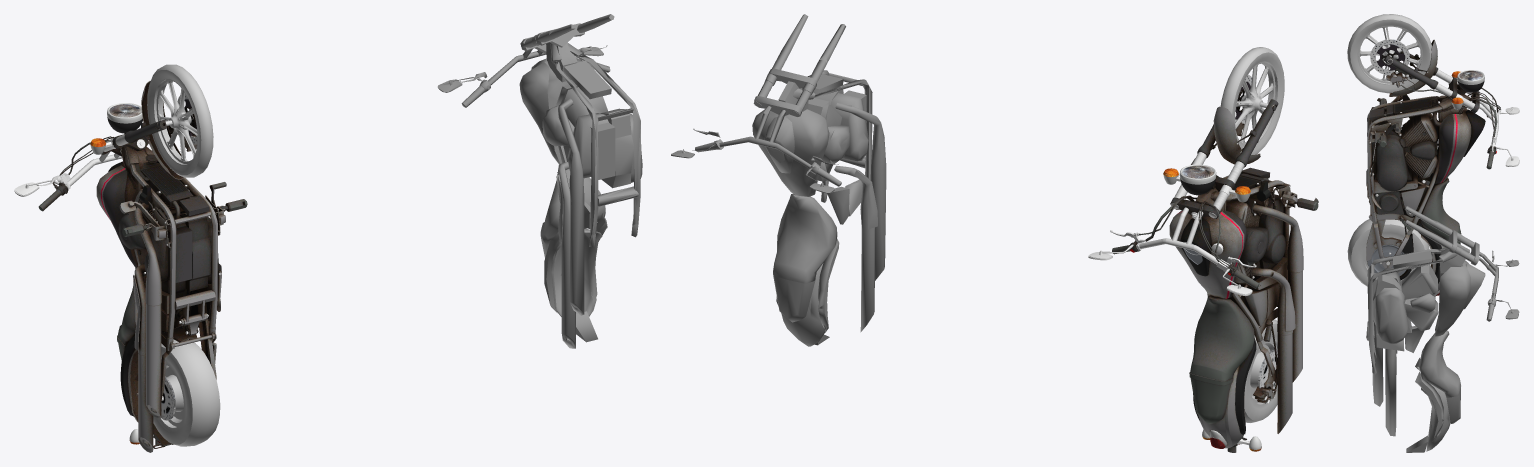
File: bike.FBX
3 renders of one model, left to right at view 1: azimuth 30°, elevation 25°; view 2: azimuth 150°, elevation 25°; view 3: azimuth 270°, elevation 25°, orthographic. The views are drawn at different scales.
Visible parts, largest first — view 1: body, collBody, wheel 1, wheel 2, collRudder, rudder, rudderSub, bodySub, lights 1; view 2: body, collBody, collRudder, rudder, wheel 1, rudderSub, wheel 2, lights 1, bodySub; view 3: collBody, body, wheel 1, collRudder, wheel 2, rudder, bodySub, rudderSub, wheelSub, lights 1.
Part boxes in pixels (box(x1,y1,x2,y2)): body: box(96, 133, 247, 452); collBody: box(519, 42, 642, 348); wheel 1: box(147, 64, 213, 177); wheel 2: box(153, 339, 220, 446); collRudder: box(437, 14, 614, 107); rudder: box(14, 134, 180, 211); rudderSub: box(124, 80, 197, 179); bodySub: box(136, 292, 216, 401); lights 1: box(90, 103, 171, 154); body: box(1169, 167, 1318, 452); collBody: box(752, 70, 886, 346); collRudder: box(671, 14, 845, 193); rudder: box(1088, 152, 1259, 295); wheel 1: box(1220, 47, 1284, 154); rudderSub: box(1191, 91, 1278, 167); wheel 2: box(1244, 319, 1277, 422); lights 1: box(1163, 164, 1250, 202); bodySub: box(1253, 305, 1278, 403); collBody: box(1366, 243, 1485, 452); body: box(1366, 84, 1485, 290); wheel 1: box(1347, 14, 1432, 93); collRudder: box(1404, 206, 1519, 321); wheel 2: box(1347, 219, 1429, 286); rudder: box(1435, 69, 1519, 169); bodySub: box(1366, 197, 1414, 280); rudderSub: box(1381, 39, 1467, 108); wheelSub: box(1370, 39, 1409, 75); lights 1: box(1451, 70, 1484, 109).
Size of the model in its own units: 383 by 245 by 132.
